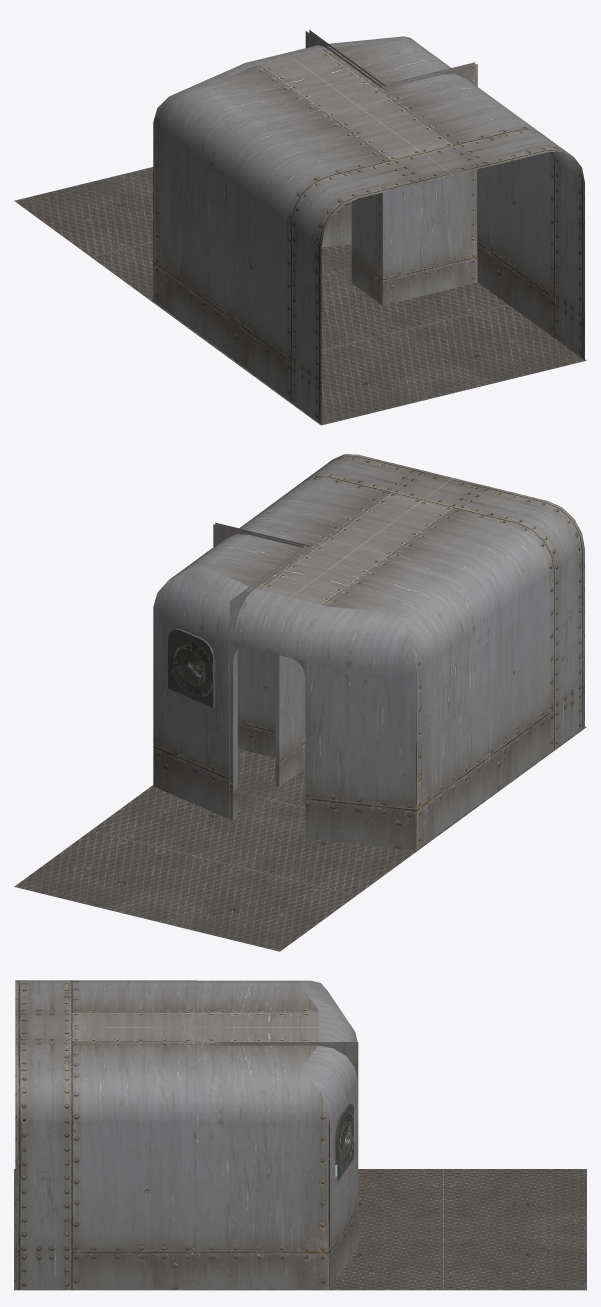
File: Train_Inside_N.fbx
3 renders of one model, top to bottom at view 1: azimuth 30°, elevation 25°; view 2: azimuth 150°, elevation 25°; view 3: azimuth 270°, elevation 25°, orthographic. The views are drawn at different scales.
Visible parts, largest first — view 1: Wall.Main, Floor.Main, Wall.Driver.Back, Wall.Front, Wall.Driver.Side; view 2: Wall.Main, Wall.Front, Floor.Main, Wall.Driver.Side, Wall.Driver.Back, Window.False, Window.Driver; view 3: Wall.Main, Floor.Main, Wall.Front, Wall.Driver.Side, Window.Driver.
Part boxes in pixels (left/top/right/bottom): Wall.Main: left=169, top=40, right=584, bottom=424; Floor.Main: left=14, top=167, right=586, bottom=425; Wall.Driver.Back: left=384, top=62, right=477, bottom=304; Wall.Front: left=153, top=36, right=420, bottom=312; Wall.Driver.Side: left=305, top=30, right=386, bottom=305; Wall.Main: left=176, top=454, right=584, bottom=838; Wall.Front: left=153, top=566, right=431, bottom=850; Floor.Main: left=14, top=726, right=586, bottom=951; Wall.Driver.Side: left=229, top=545, right=310, bottom=820; Wall.Driver.Back: left=213, top=522, right=306, bottom=757; Window.False: left=330, top=674, right=393, bottom=742; Window.Driver: left=168, top=629, right=213, bottom=708; Wall.Main: left=15, top=980, right=300, bottom=1289; Floor.Main: left=14, top=1169, right=586, bottom=1290; Wall.Front: left=300, top=980, right=357, bottom=1289; Wall.Driver.Side: left=214, top=1042, right=358, bottom=1247; Window.Driver: left=337, top=1104, right=354, bottom=1182.
Bounding box in the file's own units: 1.43 × 1.1 × 2.8.
